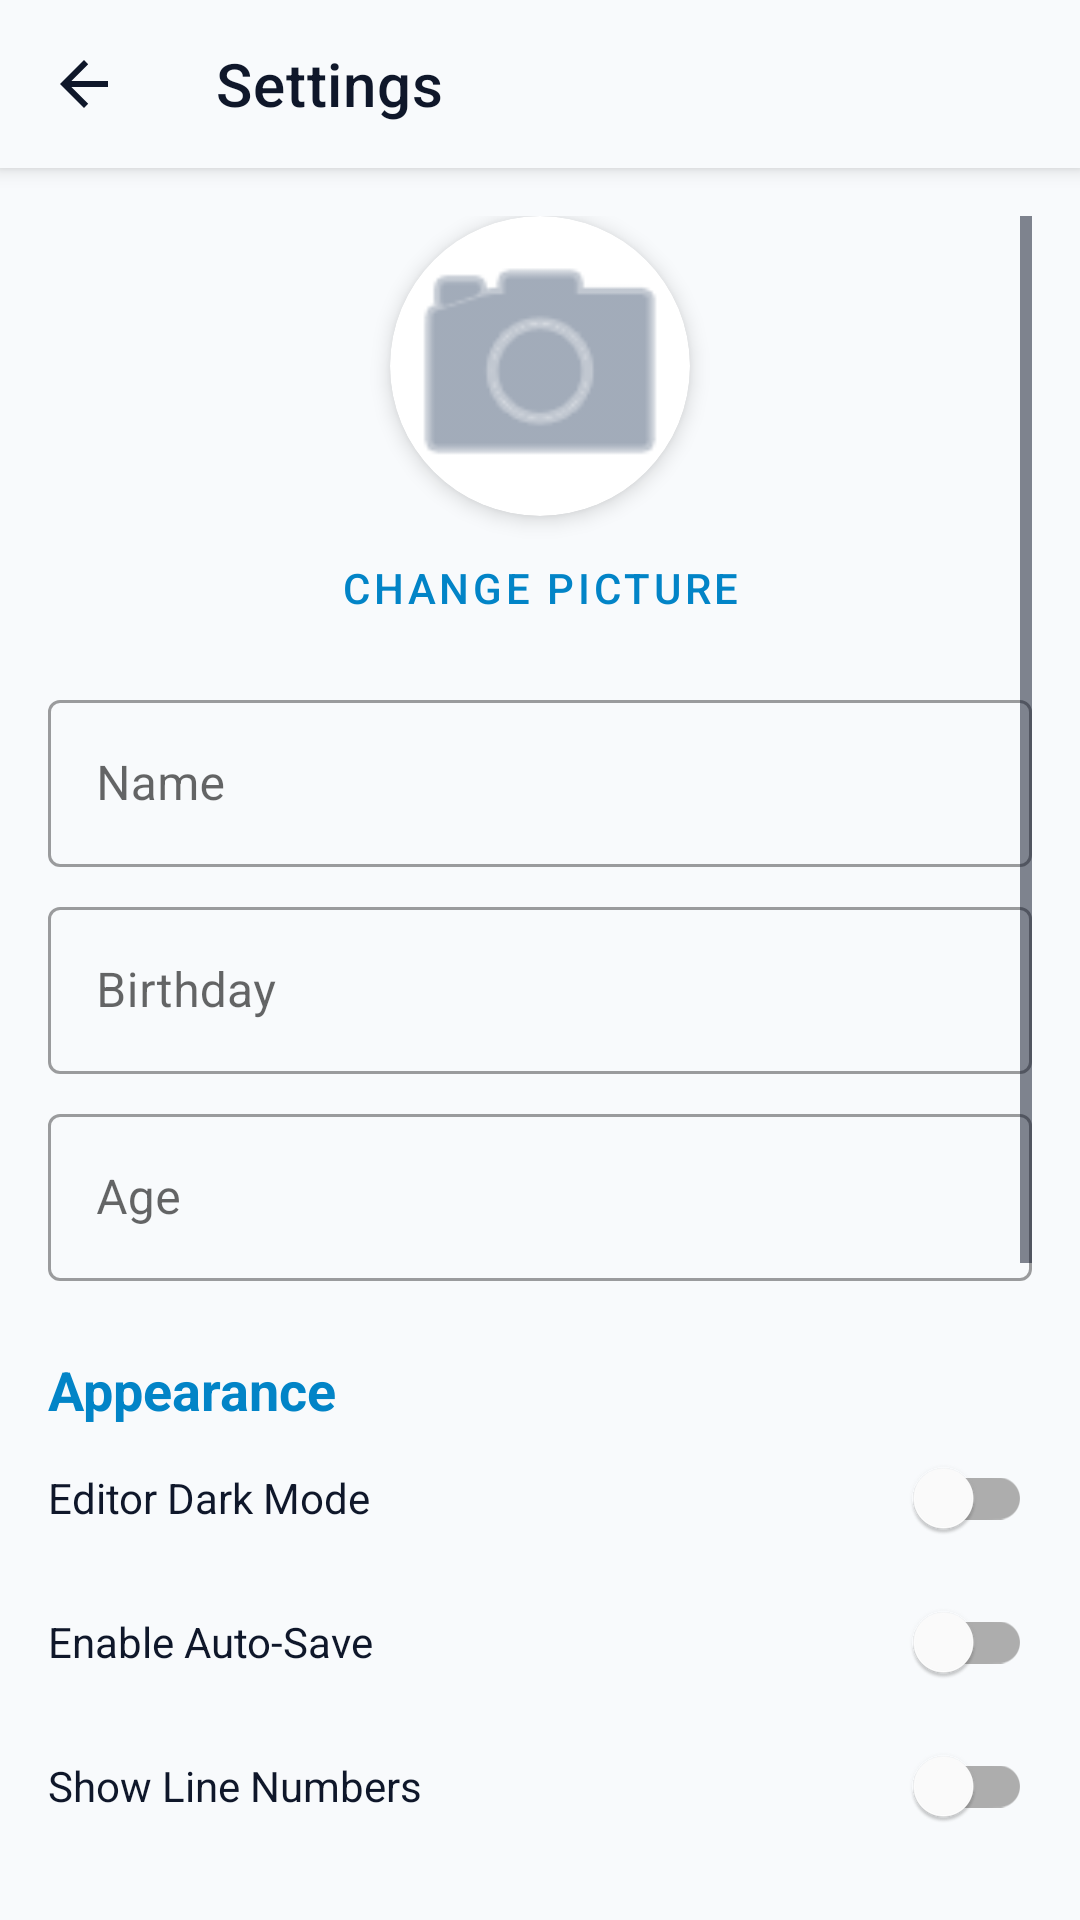

Screen size 1080×1920. Icon name, then its box in pixels as (x1, y1, x2, y2):
camera: (395, 270, 685, 516)
